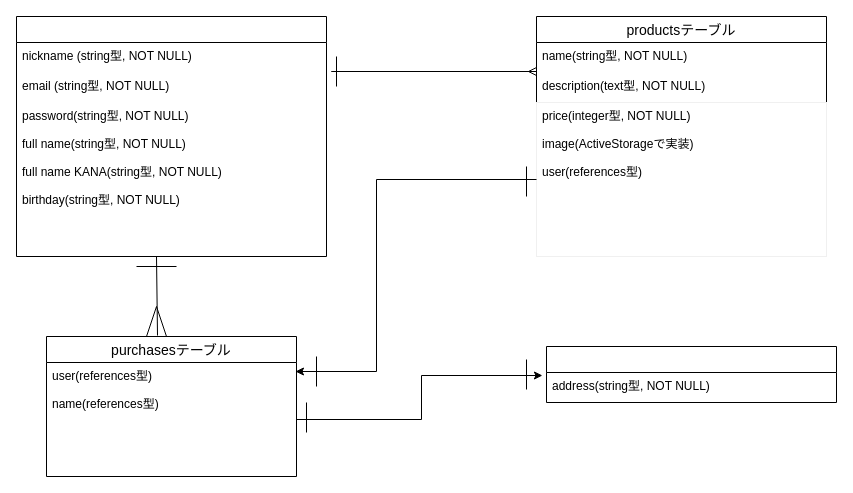
The diagram is 853 pixels wide and 493 high, and some of its shapes have lost their labels. Each missing label, with the box of its shape:
addressesテーブル: (546, 346, 836, 402)
usersテーブル: (16, 16, 326, 256)
